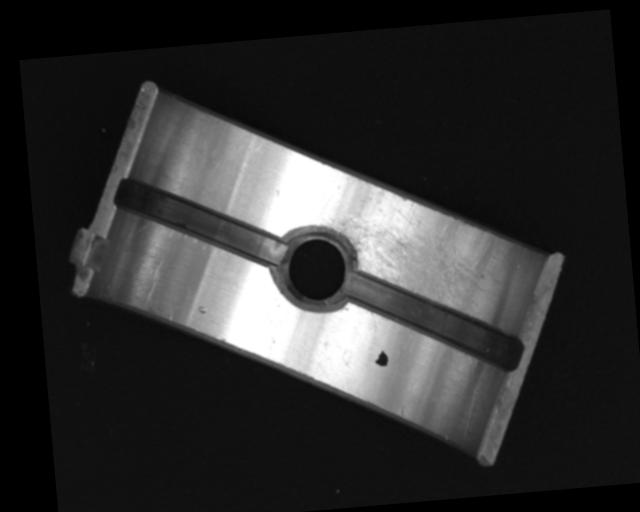blot: (372, 348, 389, 368)
bruise: (196, 303, 208, 315)
gap: (347, 258, 521, 382), (116, 165, 286, 274)
hole: (275, 224, 357, 310)
scratch: (315, 166, 501, 322)
